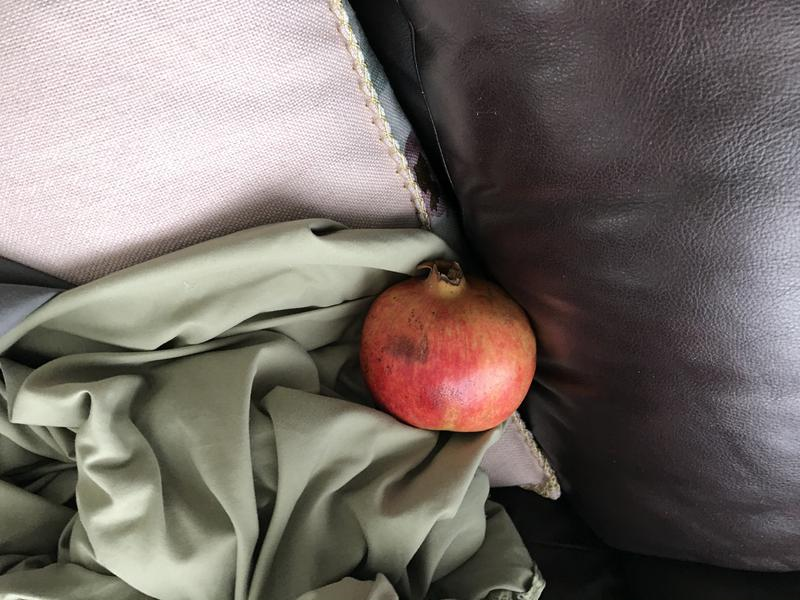pomegranate: (353, 249, 546, 442)
